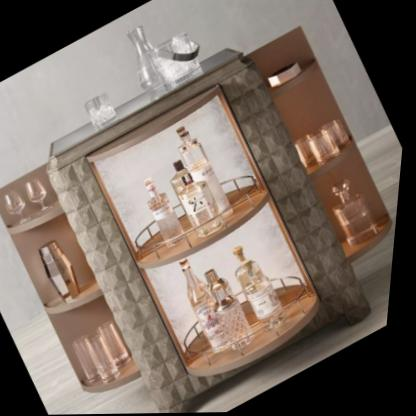Cupboard: (0, 28, 398, 414)
